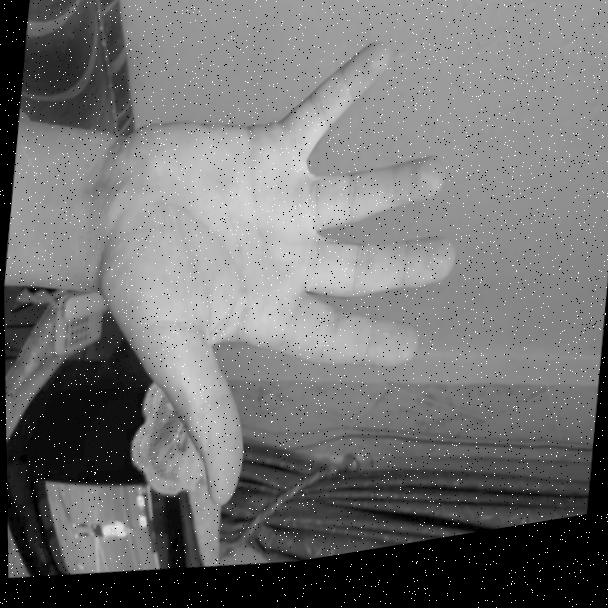five: (72, 18, 483, 552)
